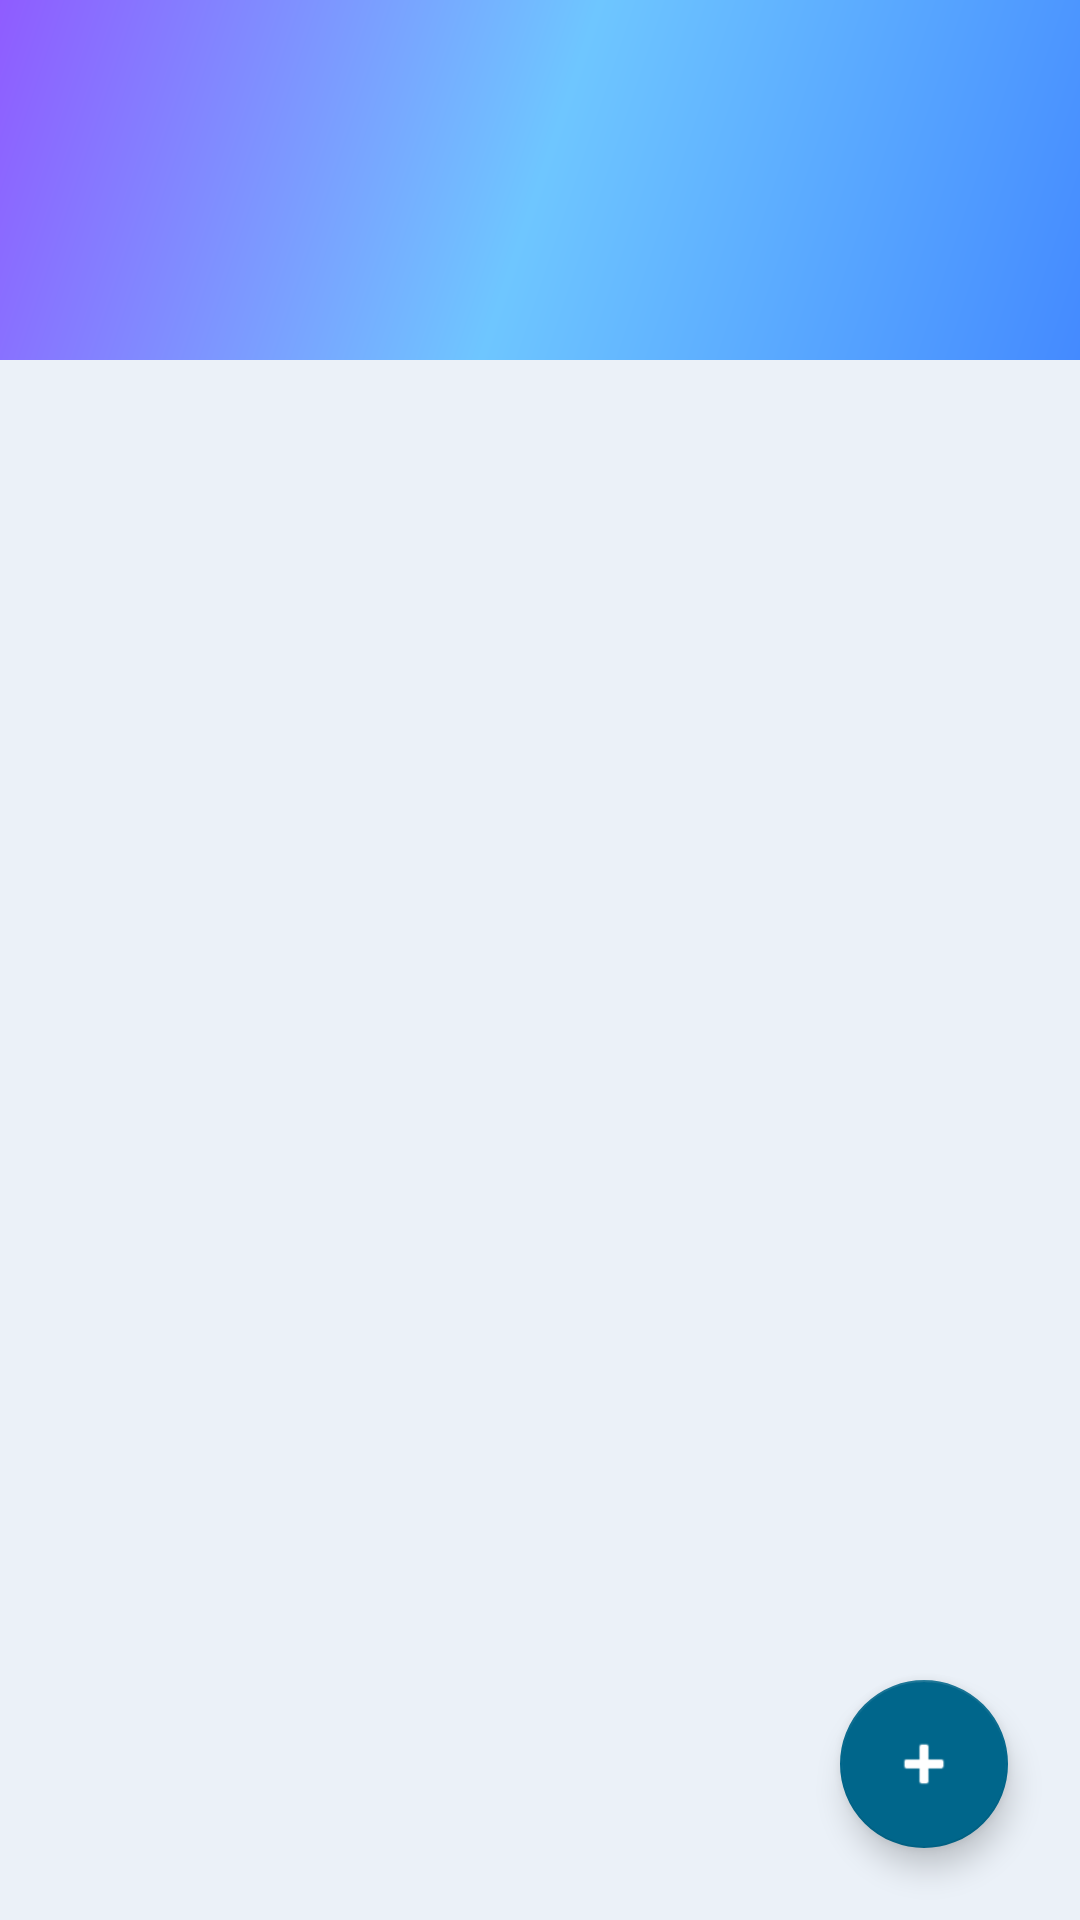

Icon click points for this 1080*1920 phone screenshot, format (x,y):
Add new bookmark: (924,1764)
